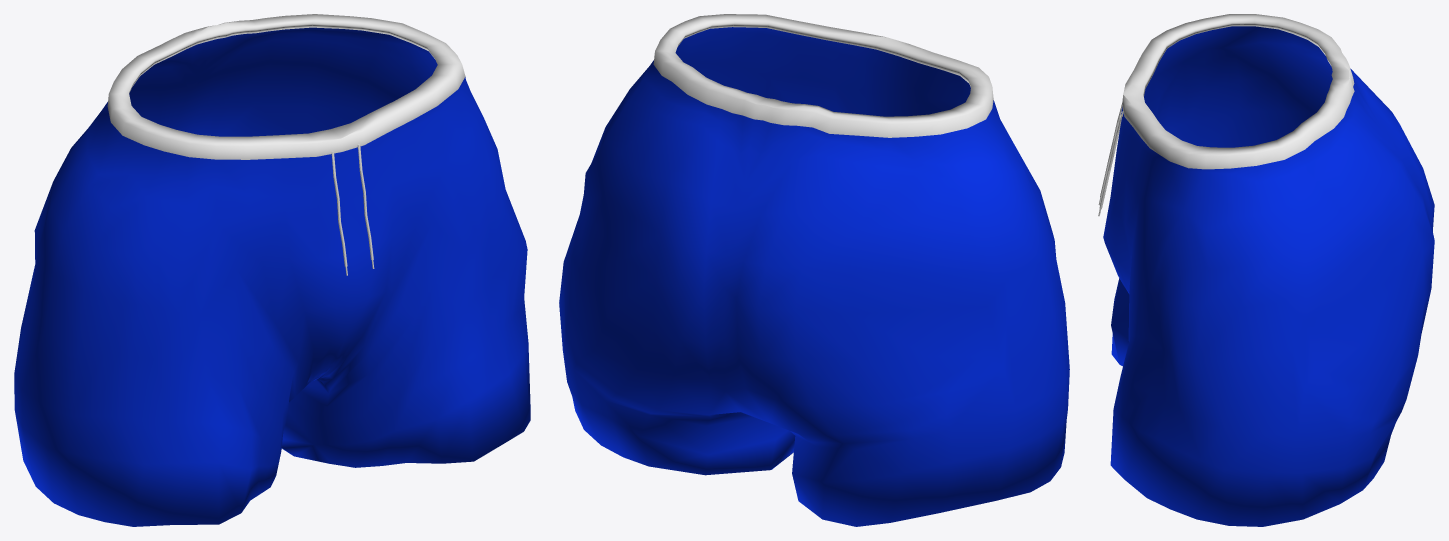
The model's file is Shots_Female.fbx.
The picture shows the model from 3 angles, left to right: view 1: azimuth 30°, elevation 25°; view 2: azimuth 150°, elevation 25°; view 3: azimuth 270°, elevation 25°; orthographic projection. The views are drawn at different scales.
Parts seen in each view (by area): view 1: Shots; view 2: Shots; view 3: Shots.
Part boxes in pixels (bbox=[...]): Shots: bbox=[14, 14, 530, 526]; Shots: bbox=[559, 14, 1069, 526]; Shots: bbox=[1098, 14, 1434, 526].
Size of the model in its own units: 29.51 by 23.2 by 19.61.
